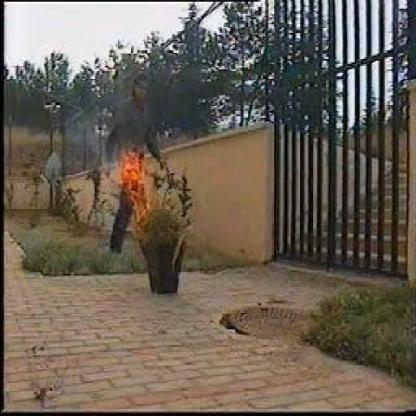foggia-v2-map80-epoch100 - v1 4323: (121, 140, 152, 226)
